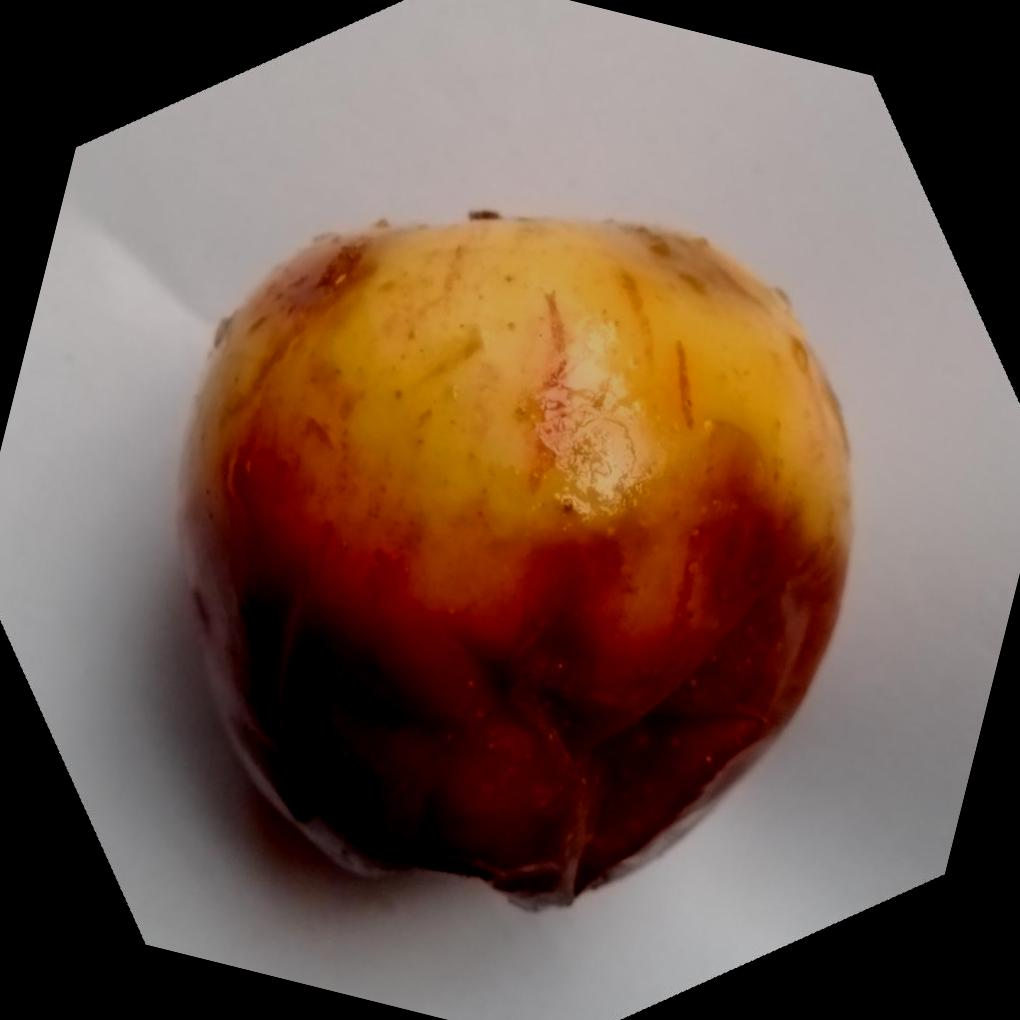FreshOrange: (175, 207, 855, 912)
